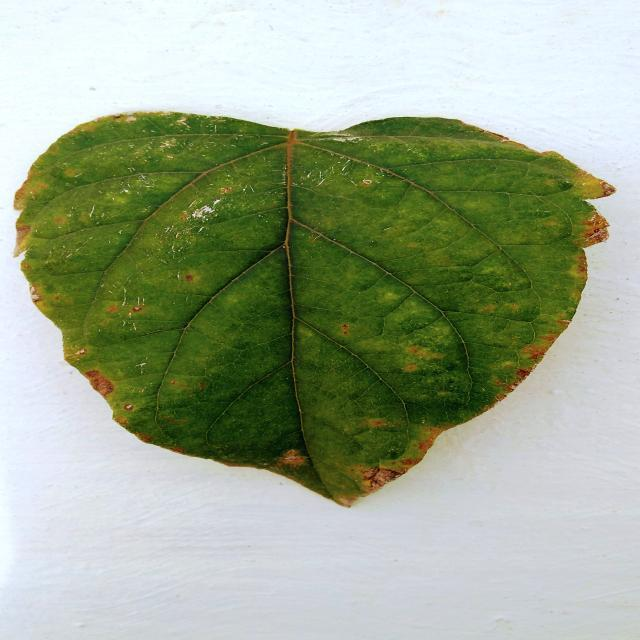leaf: (12, 108, 615, 508)
